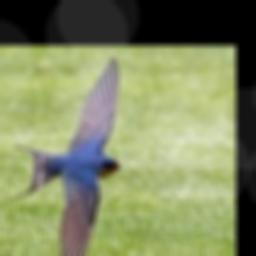Swallow: (14, 57, 123, 256)
